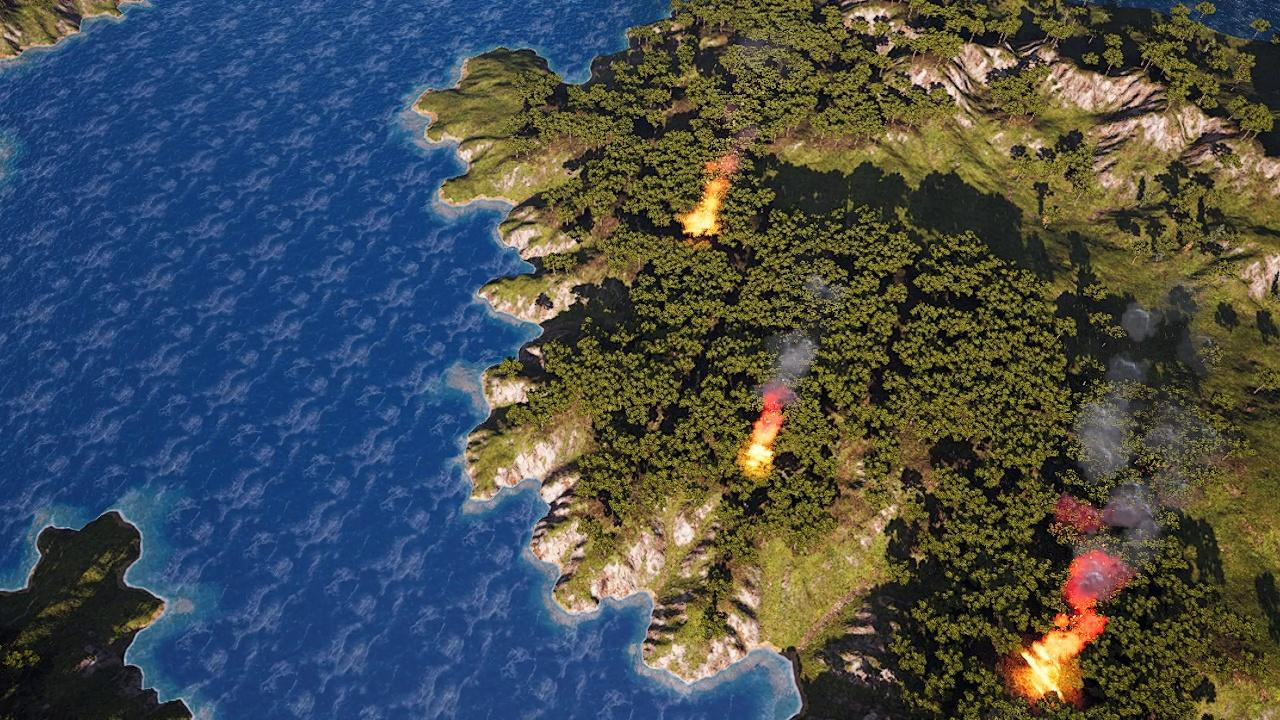fire: (1014, 556, 1120, 704), (1015, 626, 1096, 700), (741, 410, 785, 471), (682, 178, 729, 234)
smoke: (1035, 291, 1215, 676), (750, 270, 842, 419)
